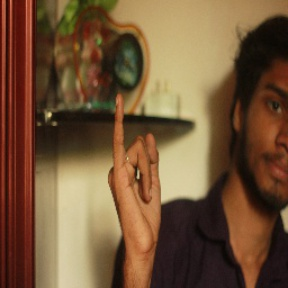I: (101, 90, 169, 255)
